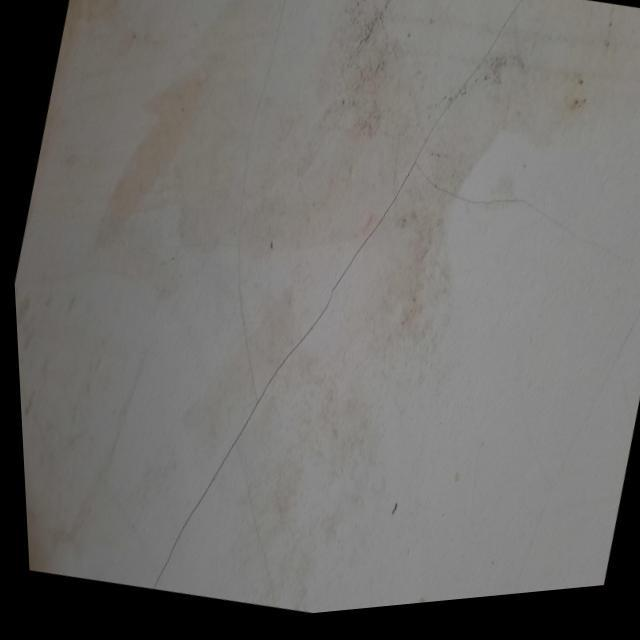Crack: (303, 113, 477, 352), (153, 358, 294, 584)
